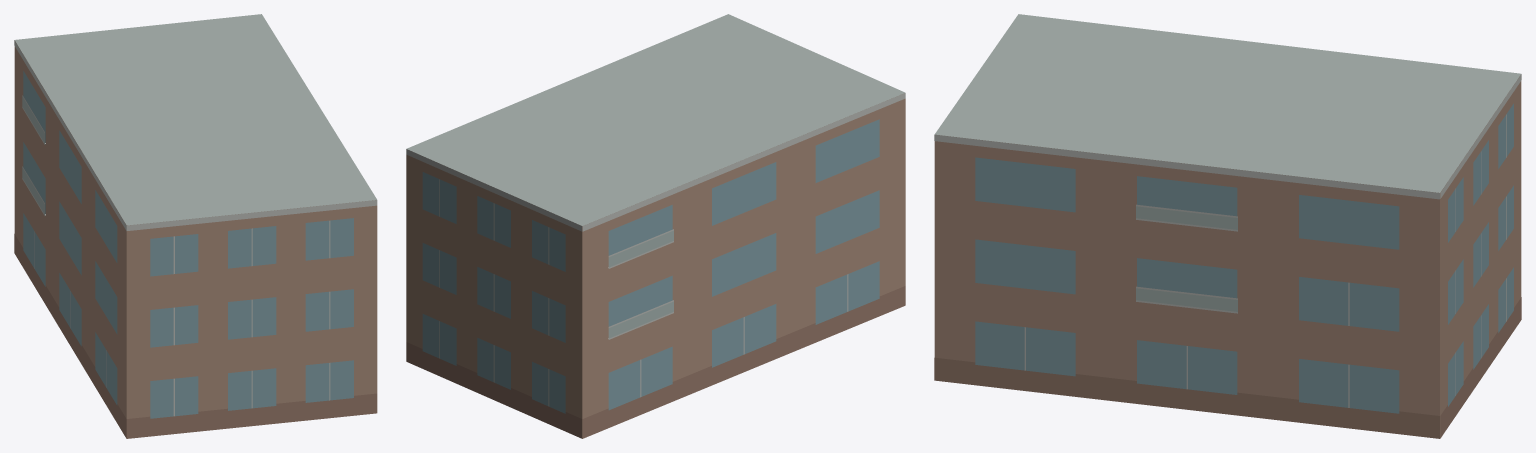
Rendered from survey-upis-32877547.glb.
3 views of the same model, side by side, from view 1: azimuth 30°, elevation 25°; view 2: azimuth 150°, elevation 25°; view 3: azimuth 270°, elevation 25° (orthographic). The views are drawn at different scales.
Parts seen in each view (by area): view 1: survey-upis-32877547.tmp; view 2: survey-upis-32877547.tmp; view 3: survey-upis-32877547.tmp.
Part boxes in pixels (x1,y1,x2,y2): survey-upis-32877547.tmp: (14,14,377,438); survey-upis-32877547.tmp: (406,14,905,438); survey-upis-32877547.tmp: (934,14,1521,438).
Size of the model in its own units: 14.28 by 9.15 by 19.8.
